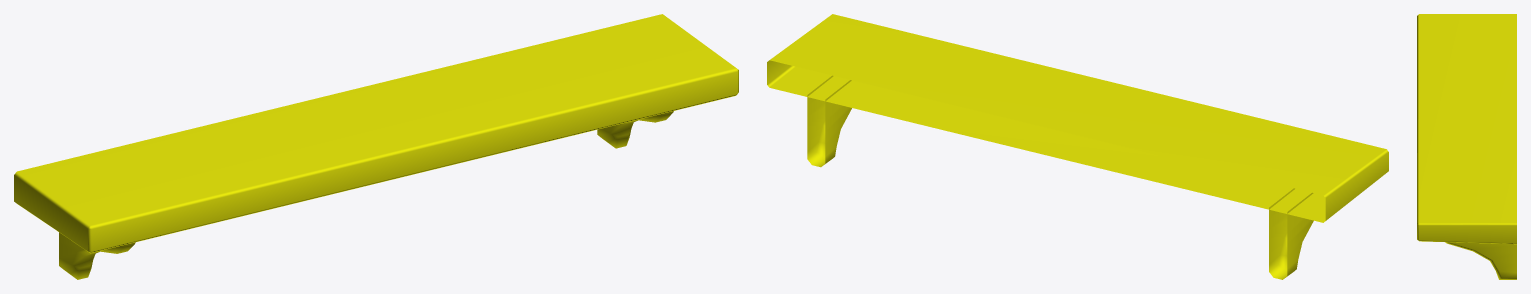
File: SM_lgShelf.fbx
3 views of the same model, side by side, from view 1: azimuth 30°, elevation 25°; view 2: azimuth 150°, elevation 25°; view 3: azimuth 270°, elevation 25° (orthographic). The views are drawn at different scales.
Visible parts, largest first — view 1: SM_lgShelf; view 2: SM_lgShelf; view 3: SM_lgShelf.
Boxes of the visible parts, x1=… form: SM_lgShelf: x1=14, y1=14, x2=738, y2=279; SM_lgShelf: x1=767, y1=14, x2=1388, y2=279; SM_lgShelf: x1=1417, y1=14, x2=1516, y2=279.
Size of the model in its own units: 216 by 34.87 by 43.13.
